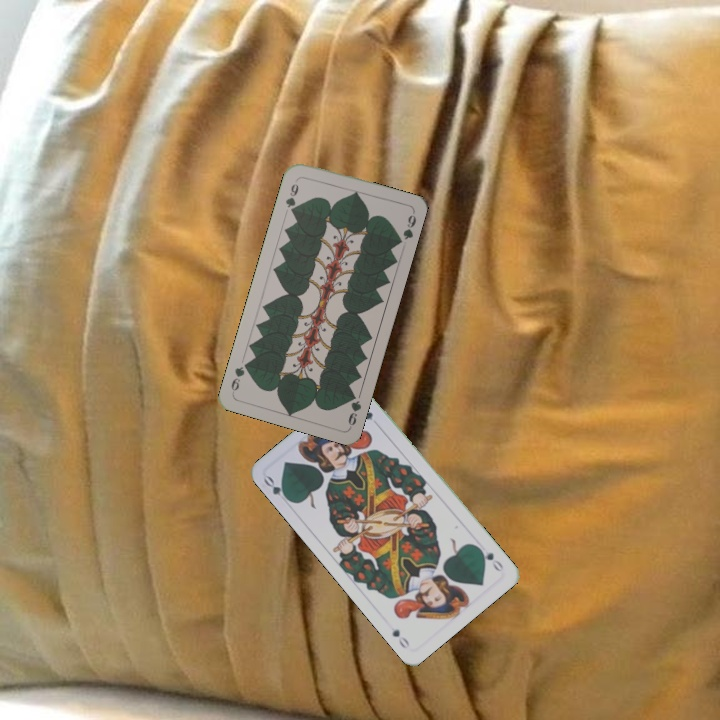G9: (344, 388, 364, 430), (281, 175, 301, 216)
GO: (259, 472, 294, 506), (473, 543, 506, 574)
